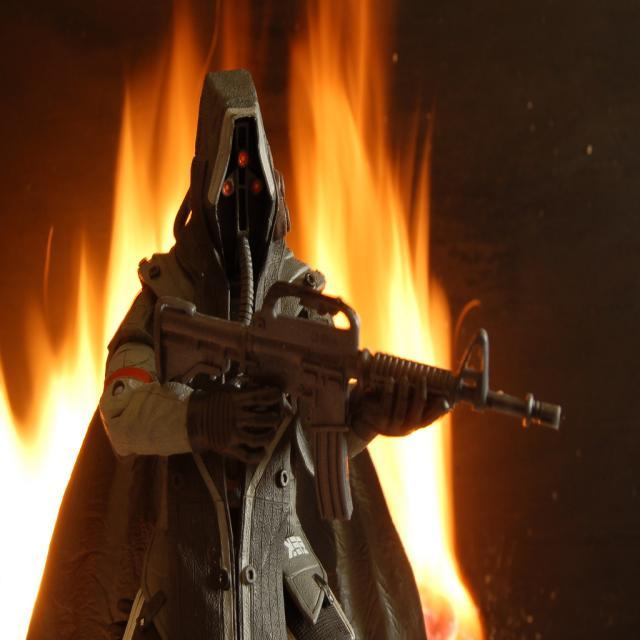Fire: (302, 66, 433, 344), (110, 6, 178, 253), (391, 434, 484, 612), (0, 438, 88, 600)
